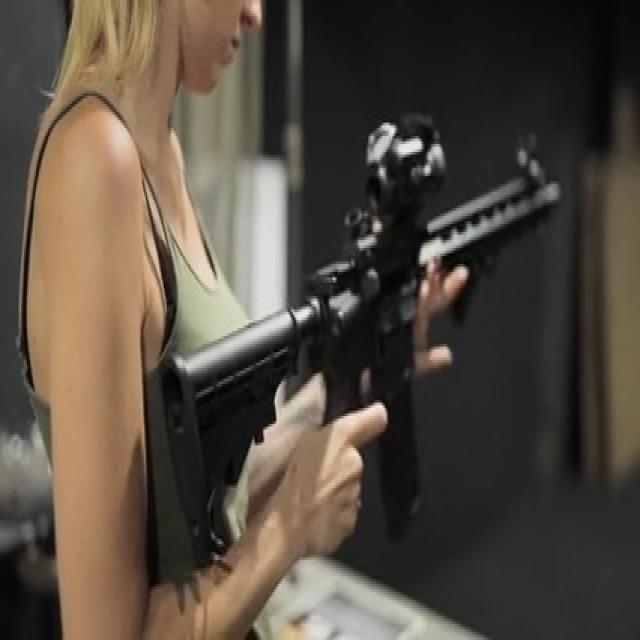Gun_Holder: (148, 136, 593, 560)
Person: (22, 0, 383, 640)
